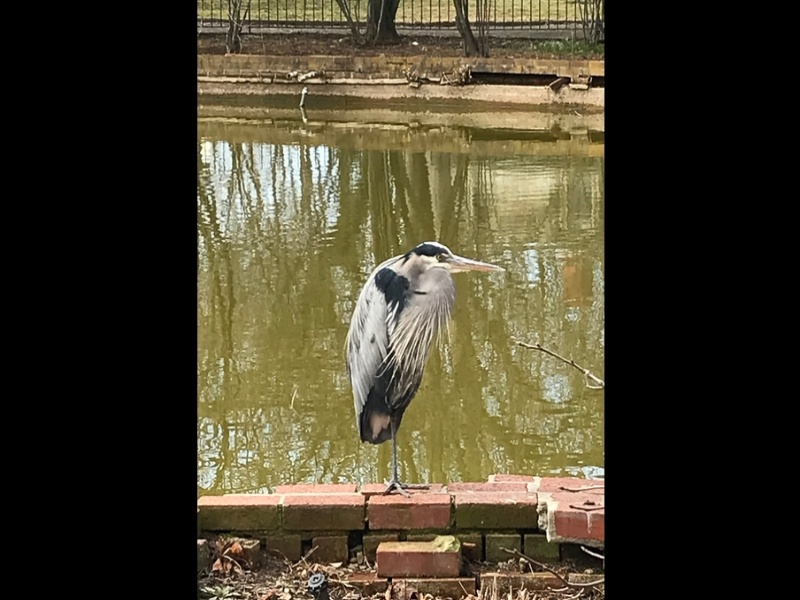heron: (345, 237, 511, 491)
